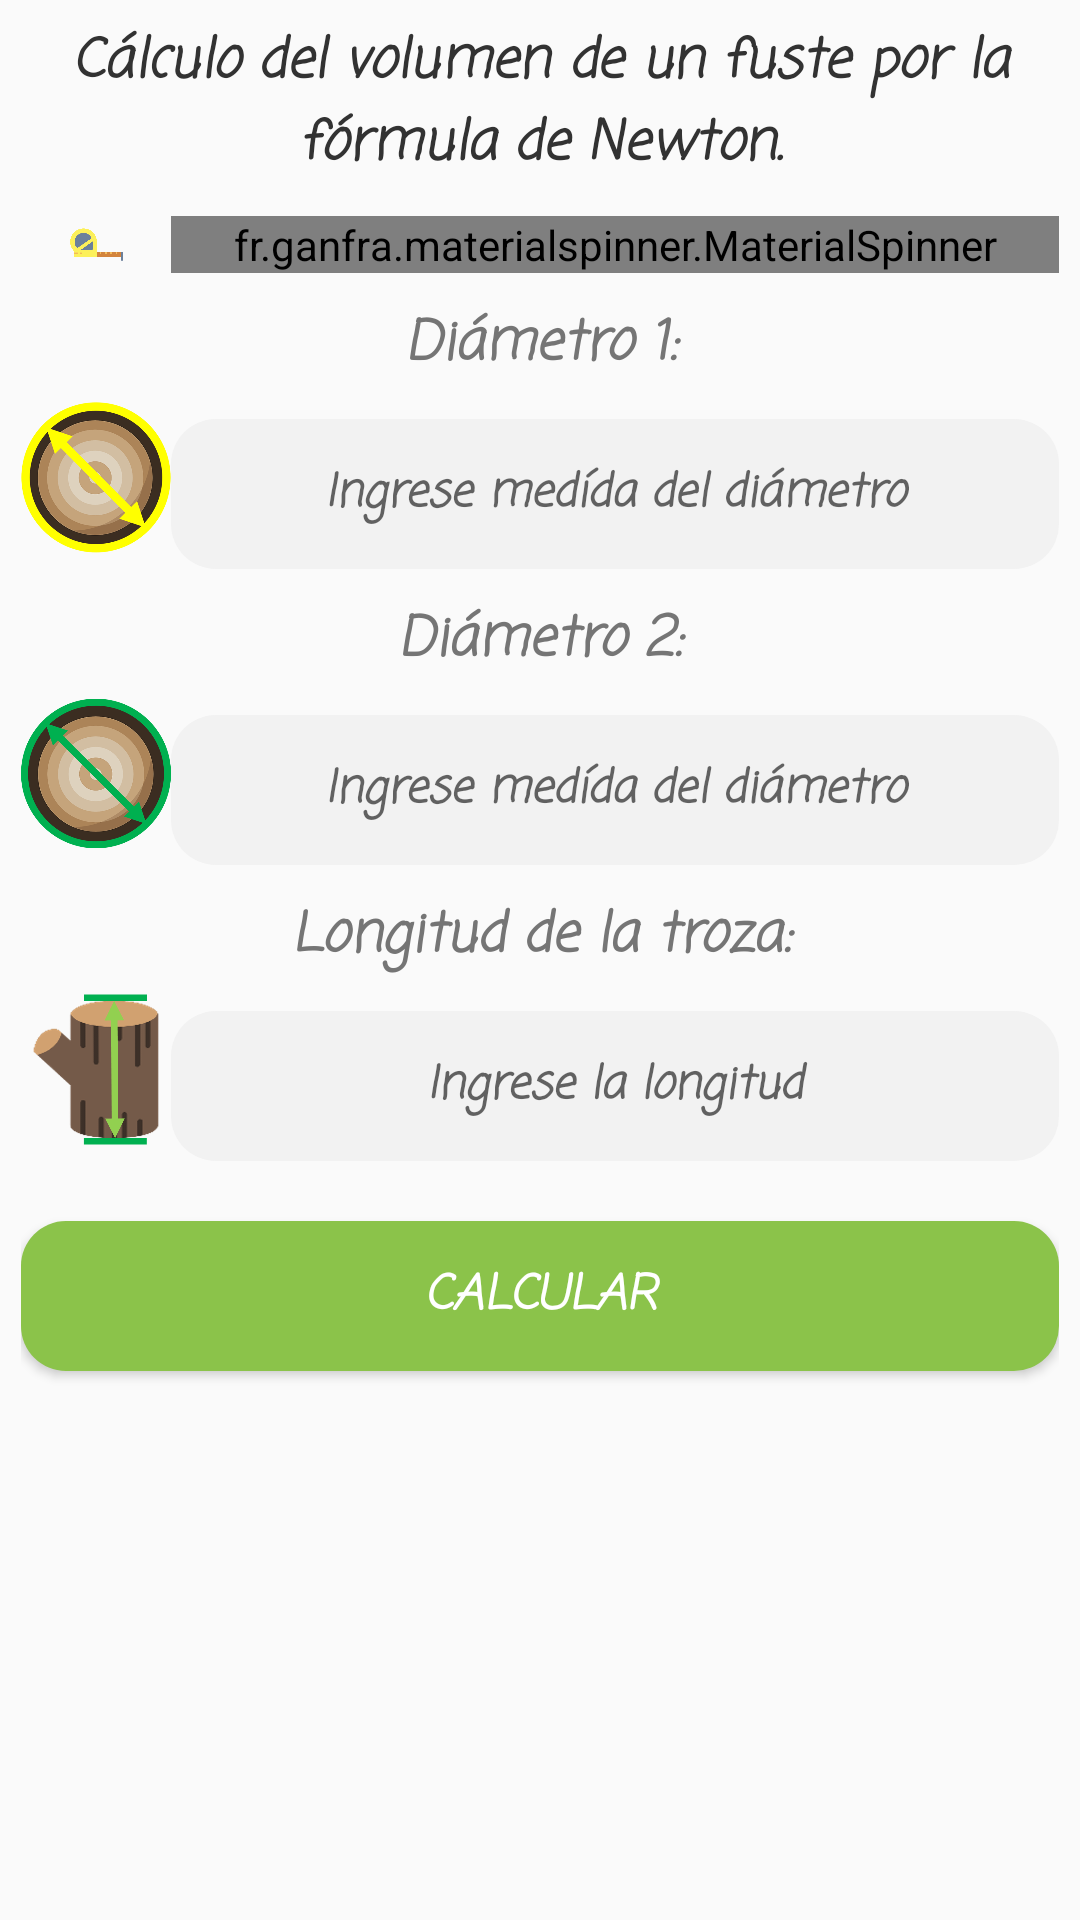

Icon click points for this 1080 × 1920 phone screenshot, format (x,y):
diameter: (96,477)
diametert: (96,773)
meter: (96,244)
